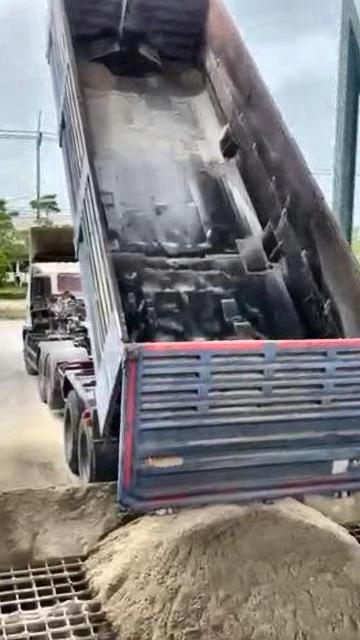sand: (87, 501, 360, 640), (0, 485, 132, 566), (307, 434, 360, 531), (0, 600, 92, 625)
